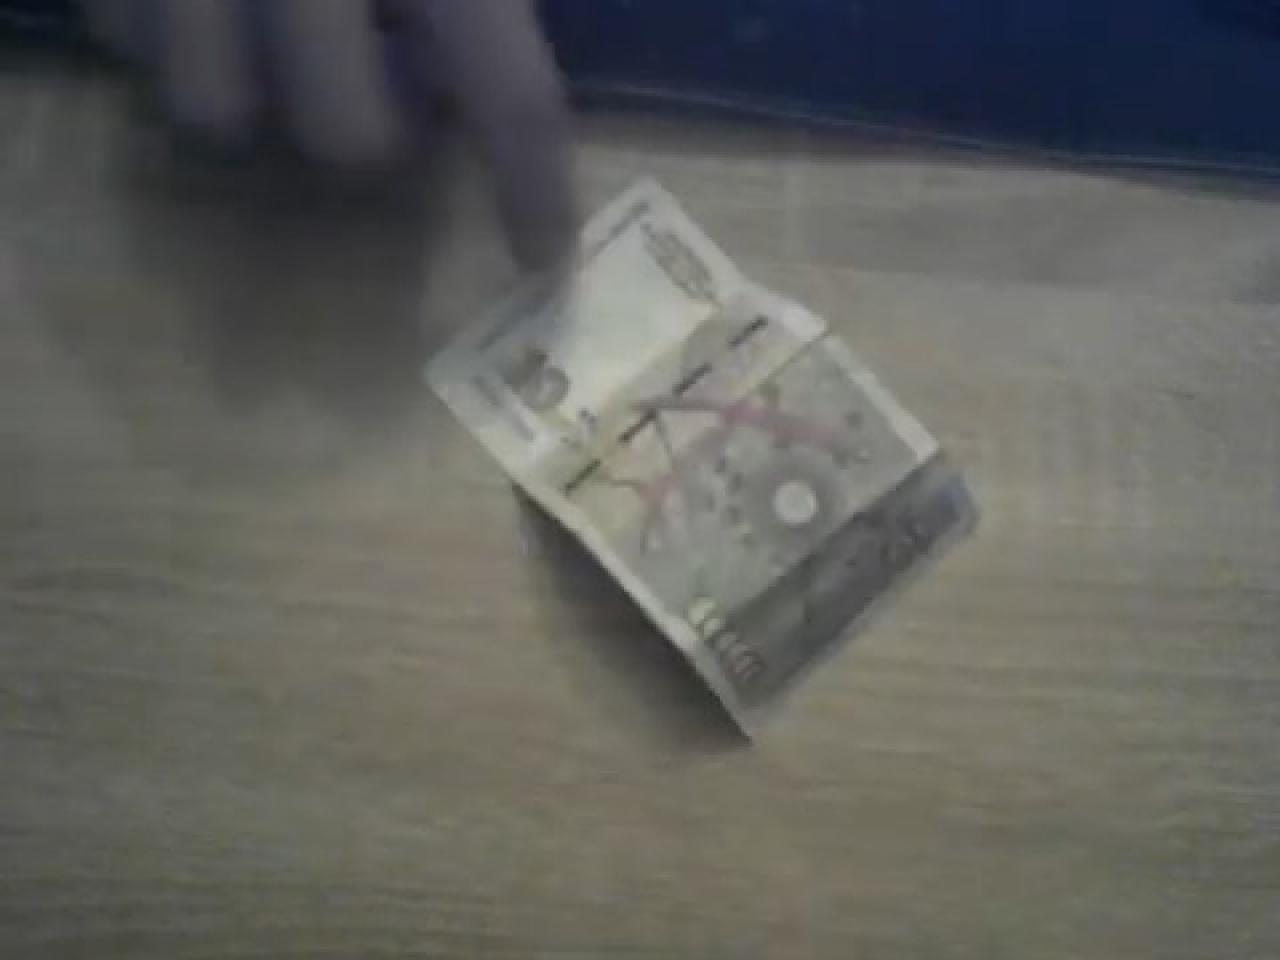10leva: (421, 176, 979, 733)
